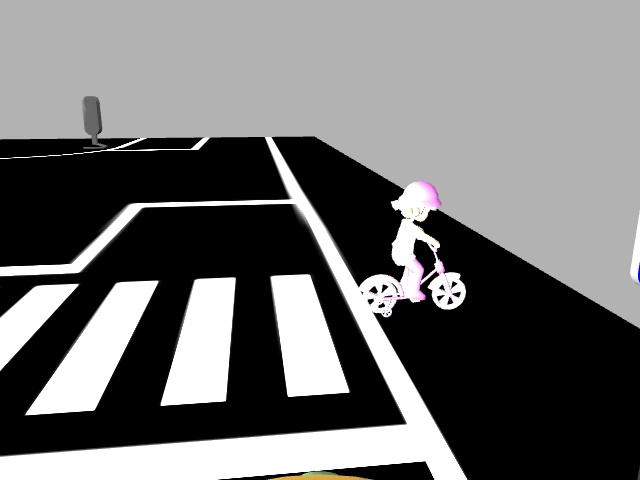Pedestrian: (342, 176, 473, 320)
